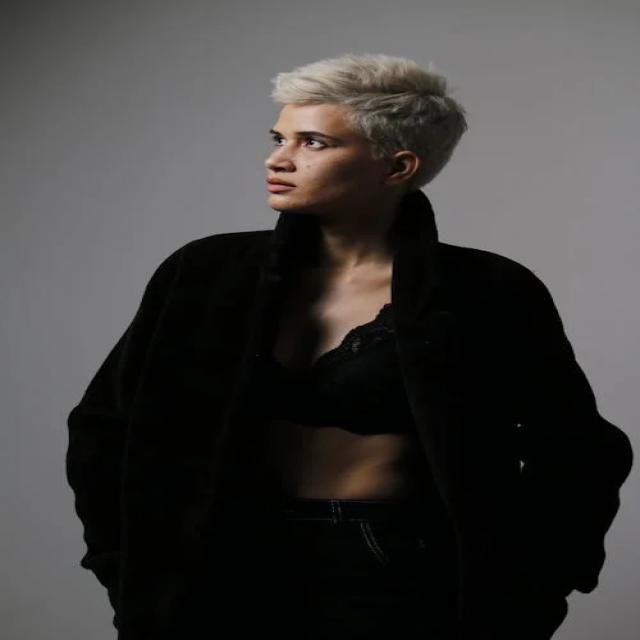Edited images: (58, 40, 630, 638)
